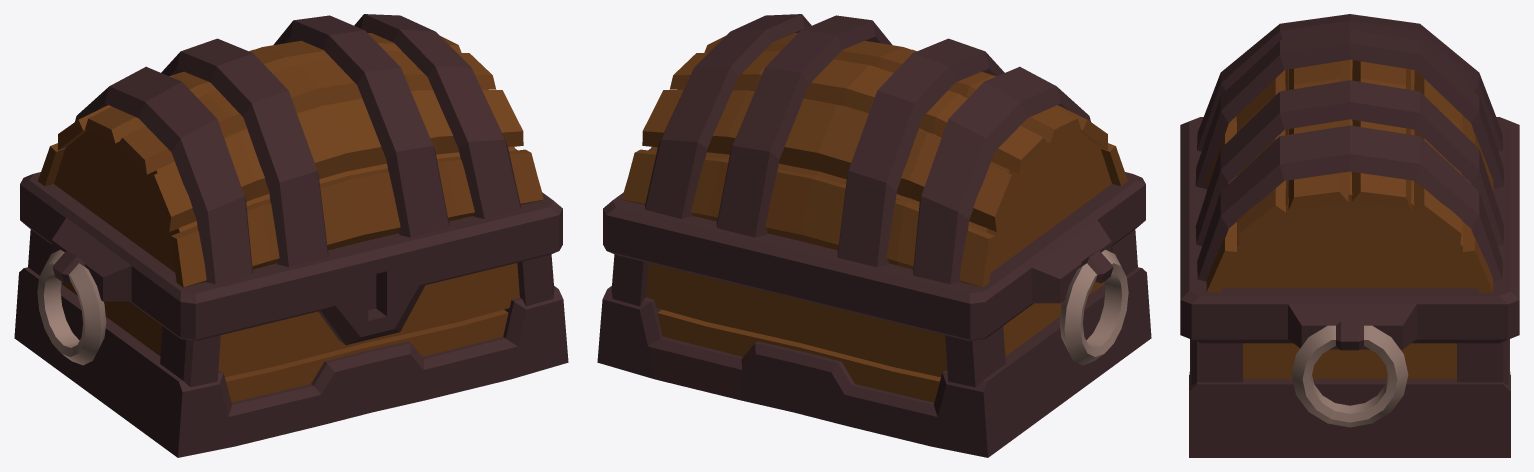
The model's file is quaternius-pirate-prop-chest-closed.glb.
3 renders of one model, left to right at view 1: azimuth 30°, elevation 25°; view 2: azimuth 150°, elevation 25°; view 3: azimuth 270°, elevation 25°, orthographic.
Visible parts, largest first — view 1: Prop_Chest_Closed; view 2: Prop_Chest_Closed; view 3: Prop_Chest_Closed.
Boxes of the visible parts, left/top/right/bottom form: Prop_Chest_Closed: left=14, top=14, right=568, bottom=457; Prop_Chest_Closed: left=597, top=14, right=1151, bottom=457; Prop_Chest_Closed: left=1180, top=14, right=1519, bottom=457.
Bounding box in the file's own units: 1.39 × 0.8812 × 0.8873.
Materials: 1 (1 with a texture image).
